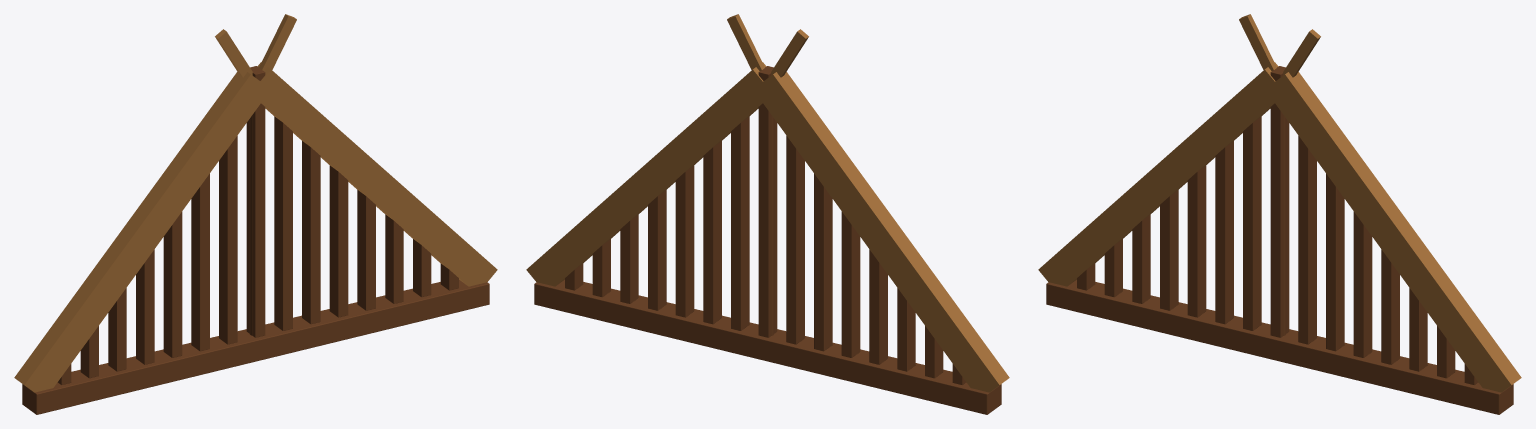
The picture shows the model from 3 angles, left to right: view 1: azimuth 30°, elevation 25°; view 2: azimuth 150°, elevation 25°; view 3: azimuth 330°, elevation 25°; orthographic projection.
Visible parts, largest first — view 1: GABLE_Rafter, GABLE_Tie, GABLE_Rafter.001, GABLE_Slat_0, GABLE_Slat_1, GABLE_Slat_-1, GABLE_Slat_2, GABLE_Slat_-2, GABLE_Slat_3, GABLE_Slat_-3, GABLE_Slat_4, GABLE_Slat_-4 (+7 smaller); view 2: GABLE_Rafter, GABLE_Tie, GABLE_Rafter.001, GABLE_Slat_0, GABLE_Slat_1, GABLE_Slat_-1, GABLE_Slat_2, GABLE_Slat_-2, GABLE_Slat_3, GABLE_Slat_-3, GABLE_Slat_4, GABLE_Slat_-4 (+7 smaller); view 3: GABLE_Rafter.001, GABLE_Tie, GABLE_Rafter, GABLE_Slat_0, GABLE_Slat_-1, GABLE_Slat_1, GABLE_Slat_-2, GABLE_Slat_2, GABLE_Slat_-3, GABLE_Slat_3, GABLE_Slat_-4, GABLE_Slat_4 (+7 smaller).
Part boxes in pixels (box(x1,y1,x2,y2)): GABLE_Rafter: box(14, 72, 270, 392); GABLE_Tie: box(22, 280, 489, 414); GABLE_Rafter.001: box(257, 62, 497, 286); GABLE_Slat_0: box(246, 66, 265, 337); GABLE_Slat_1: box(274, 116, 292, 330); GABLE_Slat_-1: box(219, 135, 237, 344); GABLE_Slat_2: box(302, 141, 320, 324); GABLE_Slat_-2: box(191, 173, 209, 351); GABLE_Slat_3: box(329, 165, 348, 317); GABLE_Slat_-3: box(163, 211, 182, 357); GABLE_Slat_4: box(357, 190, 375, 310); GABLE_Slat_-4: box(136, 249, 154, 364); GABLE_Rafter: box(753, 72, 1009, 392); GABLE_Tie: box(534, 280, 1001, 414); GABLE_Rafter.001: box(526, 62, 768, 286); GABLE_Slat_0: box(758, 66, 777, 337); GABLE_Slat_1: box(731, 116, 749, 330); GABLE_Slat_-1: box(786, 135, 804, 344); GABLE_Slat_2: box(703, 141, 721, 324); GABLE_Slat_-2: box(814, 173, 832, 351); GABLE_Slat_3: box(675, 165, 694, 317); GABLE_Slat_-3: box(841, 211, 860, 357); GABLE_Slat_4: box(648, 190, 666, 310); GABLE_Slat_-4: box(869, 249, 887, 364); GABLE_Rafter.001: box(1265, 72, 1521, 392); GABLE_Tie: box(1046, 280, 1513, 414); GABLE_Rafter: box(1038, 62, 1282, 286); GABLE_Slat_0: box(1270, 66, 1289, 337); GABLE_Slat_-1: box(1243, 116, 1261, 330); GABLE_Slat_1: box(1298, 135, 1316, 344); GABLE_Slat_-2: box(1215, 141, 1233, 324); GABLE_Slat_2: box(1326, 173, 1344, 351); GABLE_Slat_-3: box(1187, 165, 1206, 317); GABLE_Slat_3: box(1353, 211, 1372, 357); GABLE_Slat_-4: box(1160, 190, 1178, 310); GABLE_Slat_4: box(1381, 249, 1399, 364).
Bounding box in the file's own units: 3.76 × 2.52 × 0.2.
